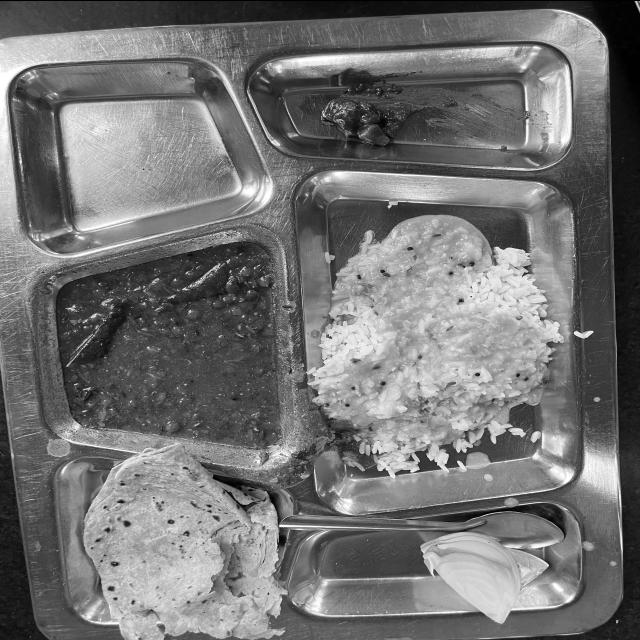70-Food-Left: (44, 26, 593, 636)
